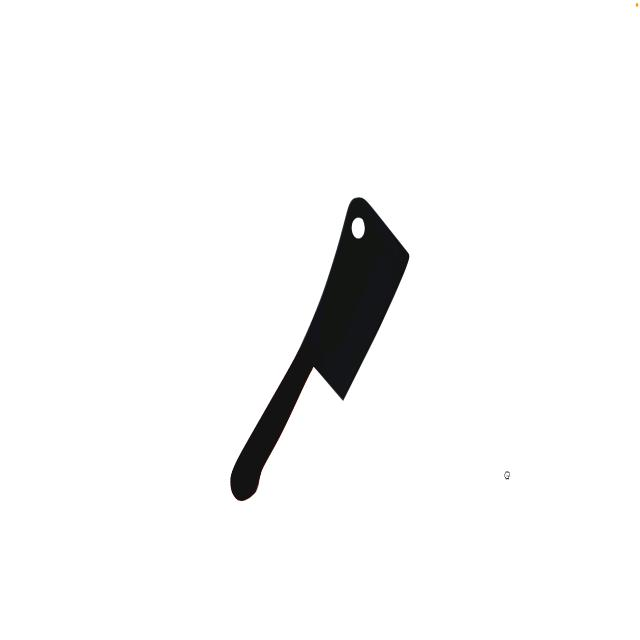cleaver: (231, 191, 416, 502)
